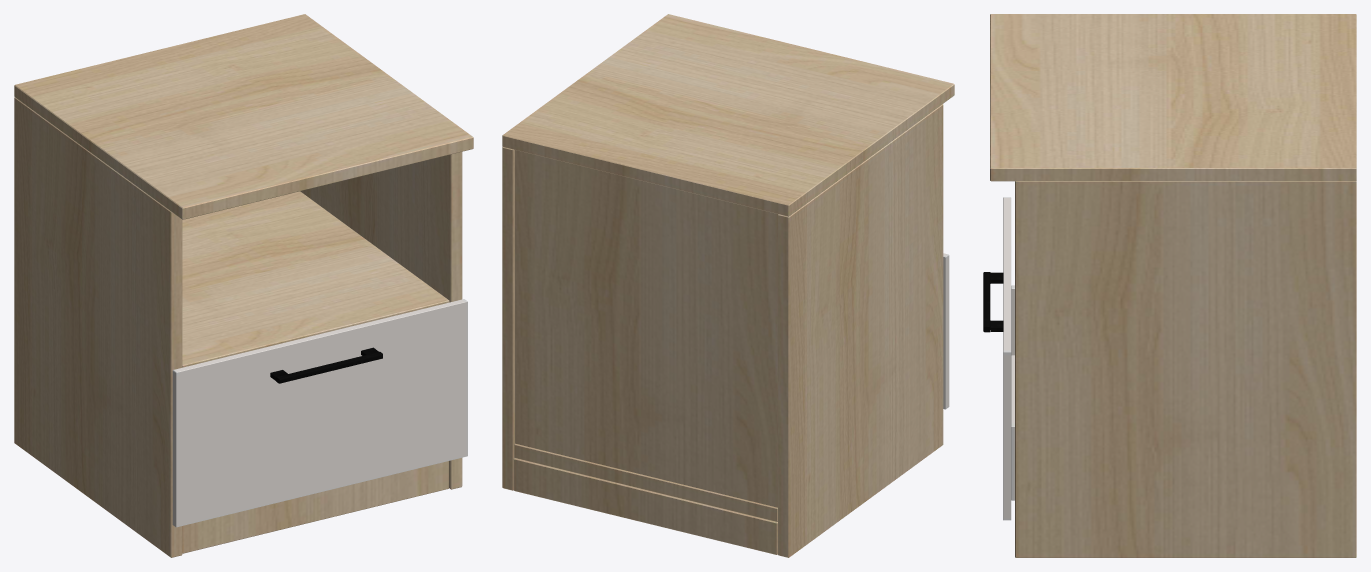
3 renders of one model, left to right at view 1: azimuth 30°, elevation 25°; view 2: azimuth 150°, elevation 25°; view 3: azimuth 270°, elevation 25°, orthographic. The views are drawn at different scales.
Bounding box in the file's own units: 451 × 529 × 459.
